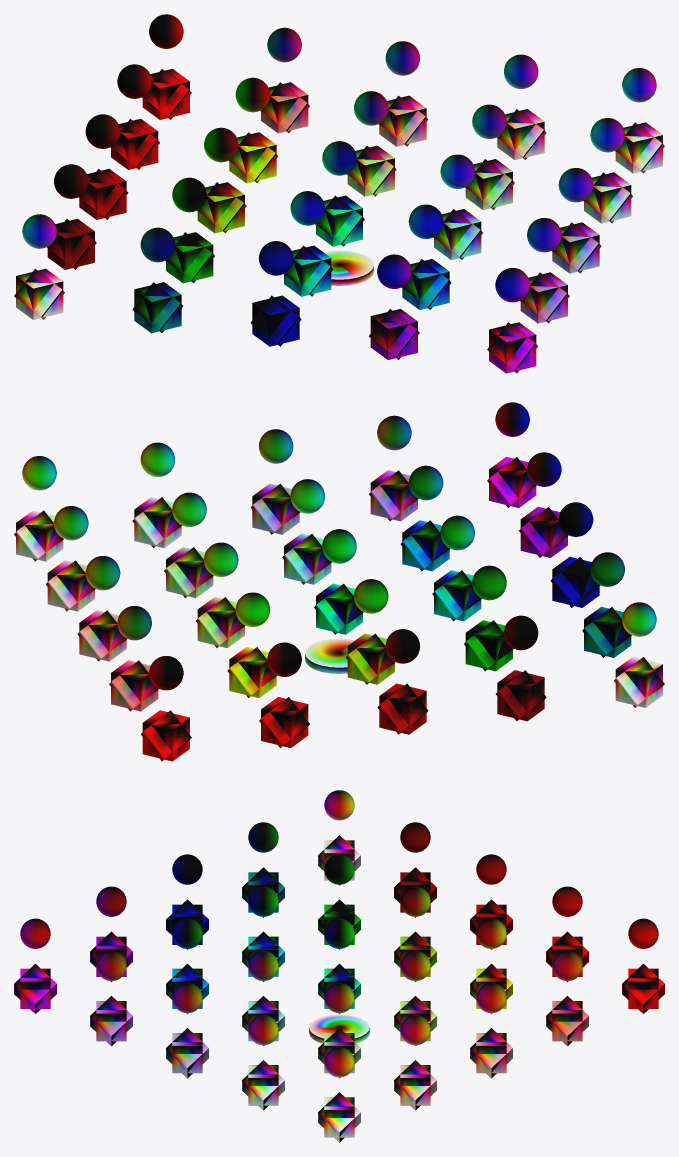
Rendered from base-mod.2.gltf.
The picture shows the model from 3 angles, top to bottom: view 1: azimuth 30°, elevation 25°; view 2: azimuth 150°, elevation 25°; view 3: azimuth 270°, elevation 25°; orthographic projection. The views are drawn at different scales.
Visible parts, largest first — view 1: cube (×25), sphere (×25), diamond (×25), base; view 2: cube (×25), sphere (×25), diamond (×25), base; view 3: sphere (×25), diamond (×9), cube (×9), base.
Boxes of the visible parts, x1=… form: cube (×25): x1=16, y1=69, x2=662, y2=373; sphere (×25): x1=22, y1=14, x2=656, y2=302; diamond (×25): x1=14, y1=69, x2=664, y2=373; base: x1=323, y1=250, x2=373, y2=285; cube (×25): x1=16, y1=457, x2=662, y2=761; sphere (×25): x1=22, y1=402, x2=656, y2=690; diamond (×25): x1=14, y1=457, x2=664, y2=761; base: x1=305, y1=638, x2=355, y2=673; sphere (×25): x1=20, y1=790, x2=658, y2=1077; diamond (×9): x1=14, y1=964, x2=664, y2=1142; cube (×9): x1=20, y1=968, x2=658, y2=1137; base: x1=309, y1=1014, x2=369, y2=1043.
Bounding box in the file's own units: 10.85 × 2.05 × 10.71.
Materials: 26 (26 with a texture image).
